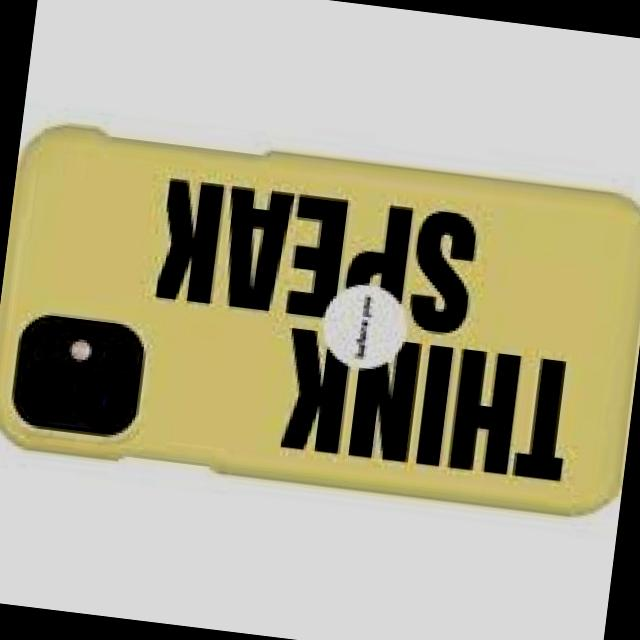lens_back: (76, 372, 131, 428), (20, 366, 74, 420)
phone: (0, 118, 640, 526)
